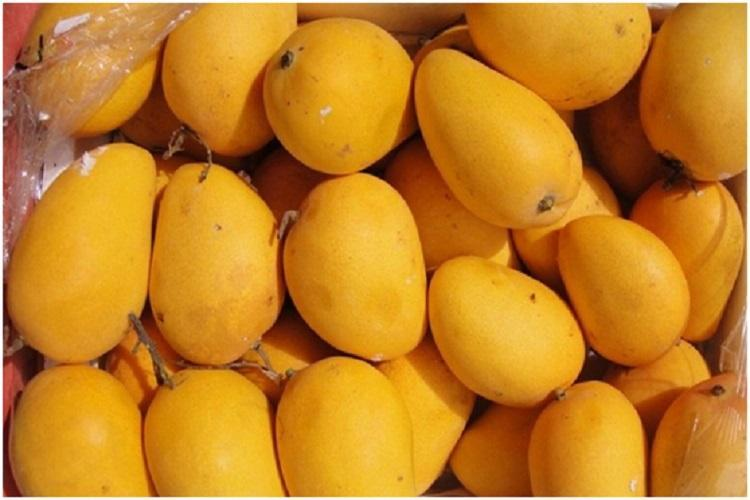xoai: (8, 140, 155, 361), (415, 45, 581, 225), (280, 175, 428, 360), (427, 255, 583, 409)
